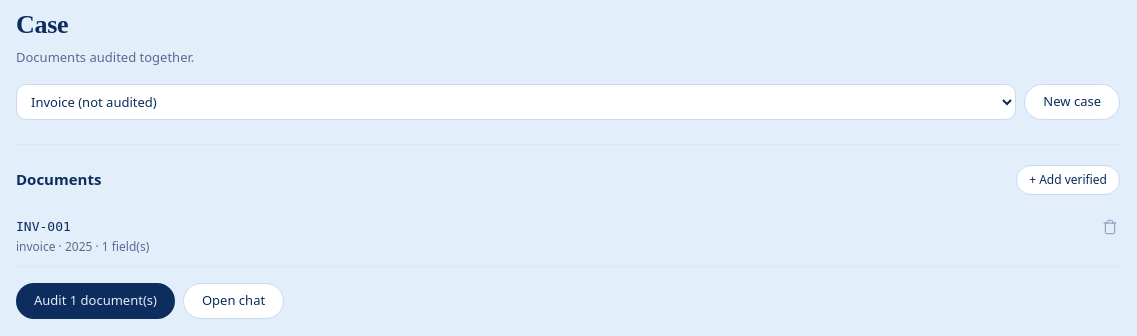
Test: CasePanel › removes a document from the case
The image size is (1137, 336).
Click the button named "Remove INV-001" at [1110, 226], box [1100, 216, 1120, 236]
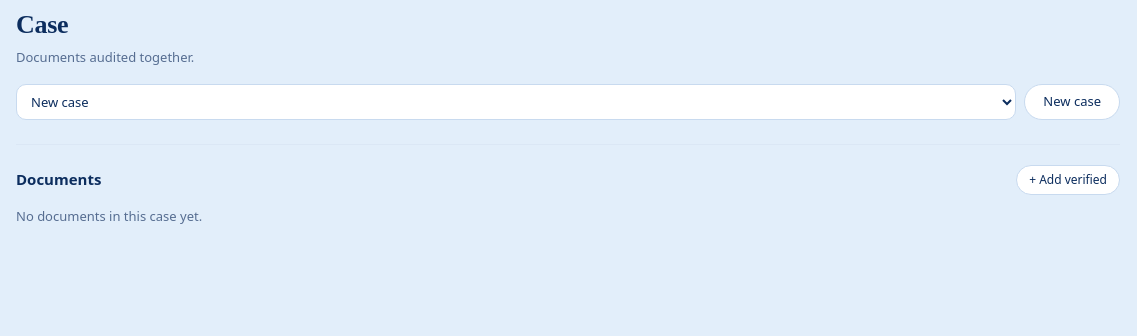
Check: the text "INV-001" is gone
